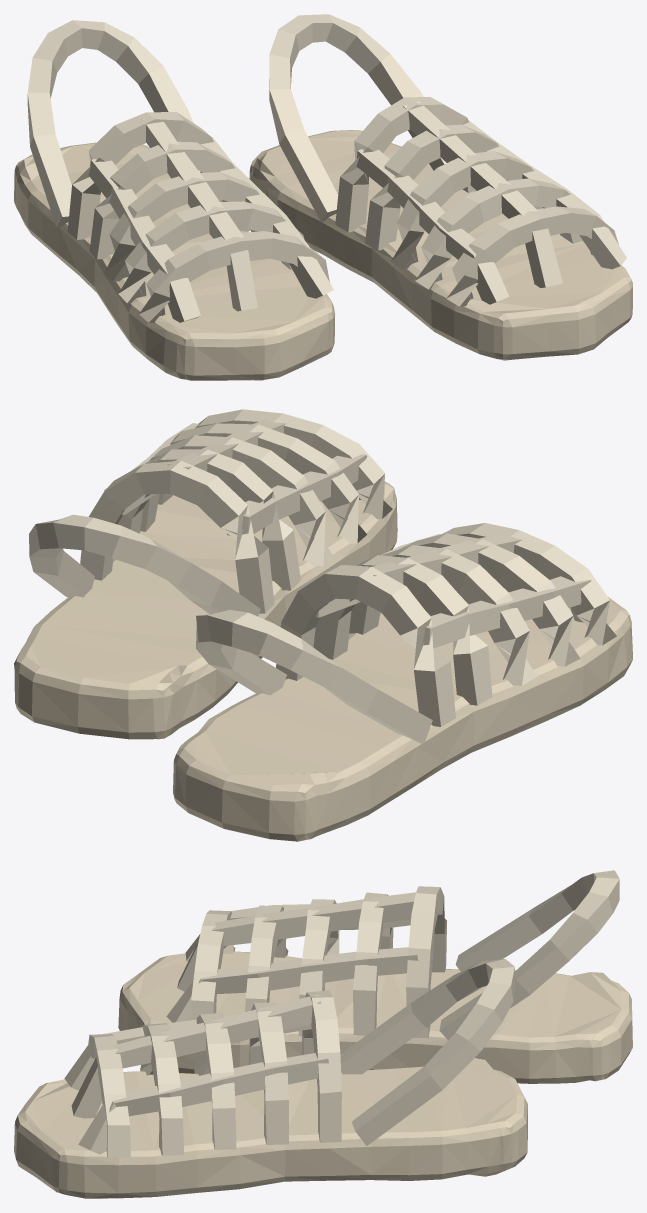
The model's file is sandals.glb.
3 renders of one model, top to bottom at view 1: azimuth 30°, elevation 25°; view 2: azimuth 150°, elevation 25°; view 3: azimuth 270°, elevation 25°, orthographic. The views are drawn at different scales.
Parts seen in each view (by area): view 1: sole_r, sole_l, strap_heel_r, strap_heel_l, strap_arch_l0, strap_arch_r0, strap_arch_r1, strap_arch_r4, strap_arch_l4, strap_arch_l1, strap_long_r1, strap_arch_r2 (+8 smaller); view 2: sole_l, sole_r, strap_heel_l, strap_heel_r, strap_arch_l4, strap_arch_r4, strap_arch_l3, strap_arch_l2, strap_arch_r2, strap_arch_r3, strap_arch_l1, strap_arch_r1 (+6 smaller); view 3: sole_r, sole_l, strap_heel_r, strap_heel_l, strap_long_r1, strap_long_r0, strap_long_l0, strap_long_l1, strap_arch_r4, strap_arch_l4, strap_arch_r3, strap_arch_r2 (+8 smaller).
Part boxes in pixels (bbox=[...]): sole_r: bbox=[249, 130, 632, 360]; sole_l: bbox=[14, 142, 335, 380]; strap_heel_r: bbox=[269, 14, 446, 221]; strap_heel_l: bbox=[27, 20, 200, 227]; strap_arch_l0: bbox=[139, 231, 329, 323]; strap_arch_r0: bbox=[446, 206, 618, 306]; strap_arch_r1: bbox=[415, 178, 583, 289]; strap_arch_r4: bbox=[335, 96, 476, 232]; strap_arch_l4: bbox=[67, 112, 222, 239]; strap_arch_l1: bbox=[118, 201, 304, 303]; strap_long_r1: bbox=[403, 101, 562, 287]; strap_arch_r2: bbox=[391, 151, 543, 270]; sole_l: bbox=[173, 595, 632, 841]; sole_r: bbox=[14, 481, 397, 739]; strap_heel_l: bbox=[196, 610, 432, 744]; strap_heel_r: bbox=[29, 514, 260, 616]; strap_arch_l4: bbox=[276, 565, 455, 726]; strap_arch_r4: bbox=[80, 460, 274, 613]; strap_arch_l3: bbox=[313, 555, 492, 705]; strap_arch_l2: bbox=[349, 545, 536, 685]; strap_arch_r2: bbox=[140, 435, 334, 566]; strap_arch_r3: bbox=[117, 449, 300, 590]; strap_arch_l1: bbox=[400, 533, 580, 666]; strap_arch_r1: bbox=[158, 423, 367, 543]; sole_r: bbox=[14, 1058, 527, 1198]; sole_l: bbox=[118, 951, 632, 1083]; strap_heel_r: bbox=[340, 959, 515, 1145]; strap_heel_l: bbox=[439, 870, 619, 1040]; strap_long_r1: bbox=[71, 994, 320, 1118]; strap_long_r0: bbox=[78, 1053, 328, 1154]; strap_long_l0: bbox=[166, 947, 418, 1022]; strap_long_l1: bbox=[177, 891, 426, 991]; strap_arch_r4: bbox=[301, 990, 341, 1142]; strap_arch_l4: bbox=[406, 886, 446, 1038]; strap_arch_r3: bbox=[248, 1002, 288, 1144]; strap_arch_r2: bbox=[194, 1013, 236, 1149].
Size of the model in its own units: 0.2864 by 0.1144 by 0.3553.
